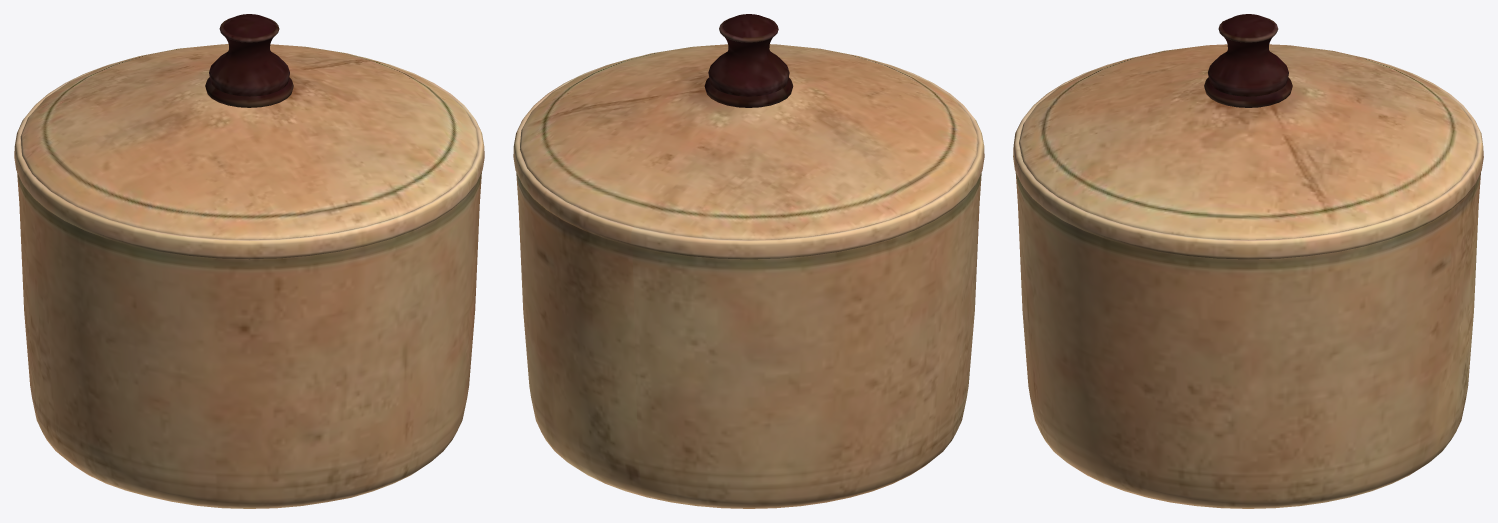
Rendered from brass_pot_01.glb.
3 views of the same model, side by side, from view 1: azimuth 30°, elevation 25°; view 2: azimuth 150°, elevation 25°; view 3: azimuth 270°, elevation 25° (orthographic).
Parts seen in each view (by area): view 1: brass_pot_01; view 2: brass_pot_01; view 3: brass_pot_01.
Part boxes in pixels (left/top/right/bottom): brass_pot_01: left=14, top=14, right=484, bottom=508; brass_pot_01: left=513, top=14, right=984, bottom=508; brass_pot_01: left=1013, top=14, right=1483, bottom=508.
Bounding box in the file's own units: 0.3019 × 0.291 × 0.3017.
Materials: 1 (1 with a texture image).
